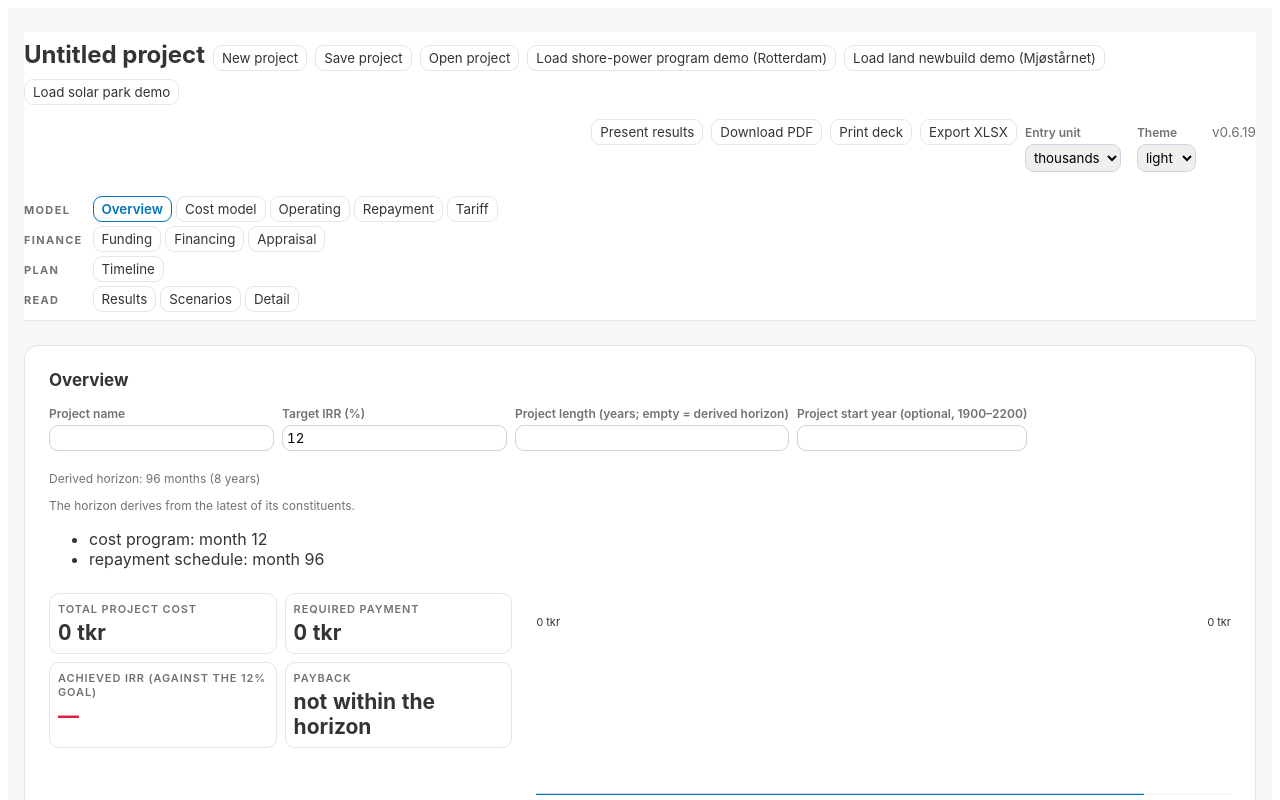
Test: v0.6.13.3 Task B: the Timeline section › ADDED-GATE: an added gate takes the DP code and its English title
Click the button "Timeline".
click(128, 269)  # box top-left (92, 256), bottom-right (164, 282)
(page scrolled)
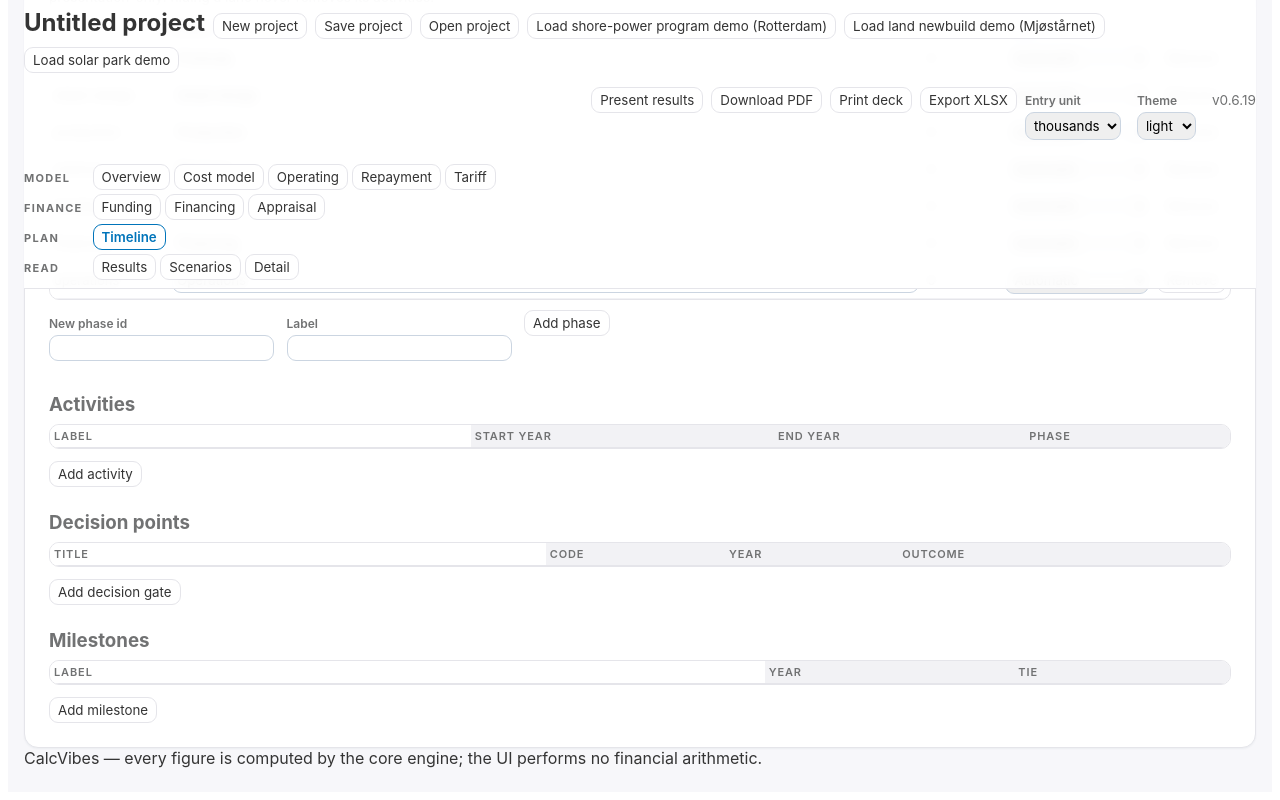
Click the button "Add decision gate".
click(115, 592)  # box top-left (49, 579), bottom-right (181, 605)
(page scrolled)
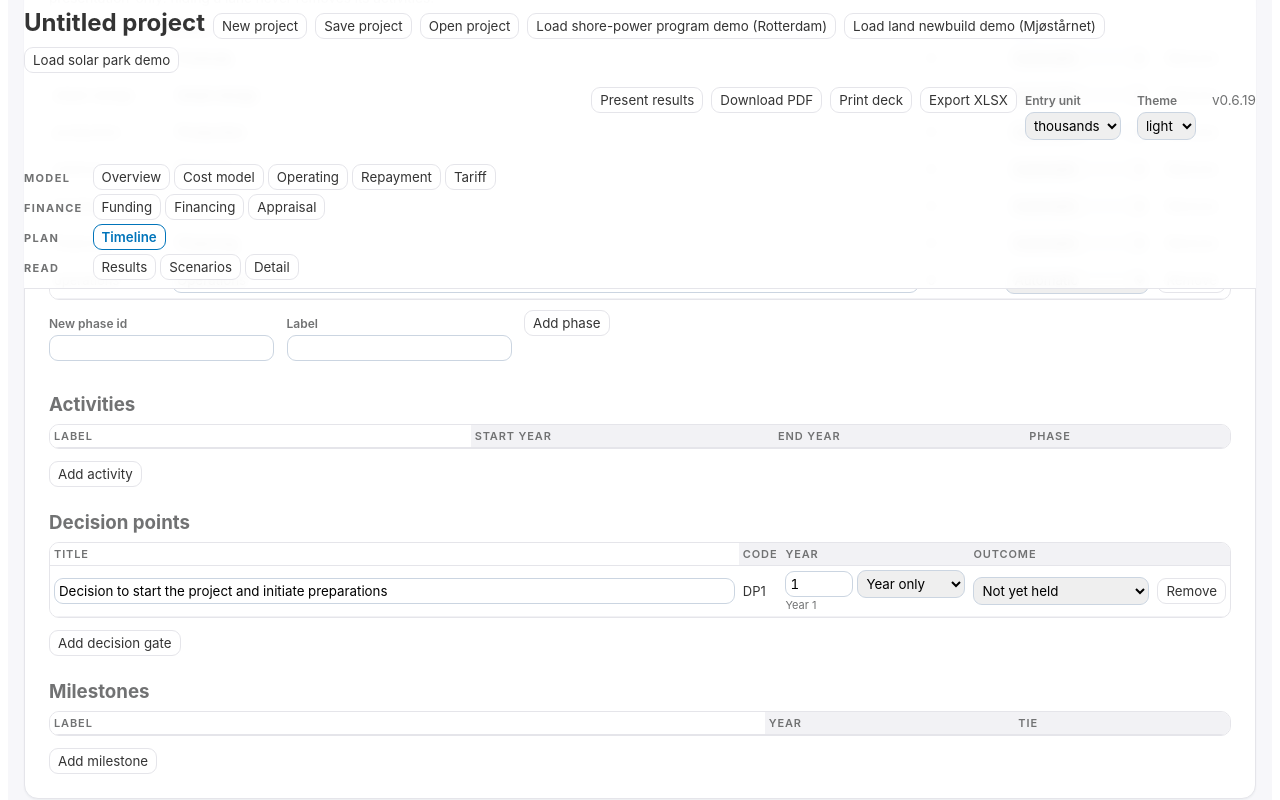
Now the cell "DP1" is shown, box top-left (739, 566), bottom-right (782, 617)
Now the 3rd field holds "Decision to start the project and initiate preparations", box top-left (54, 578), bottom-right (735, 604)
